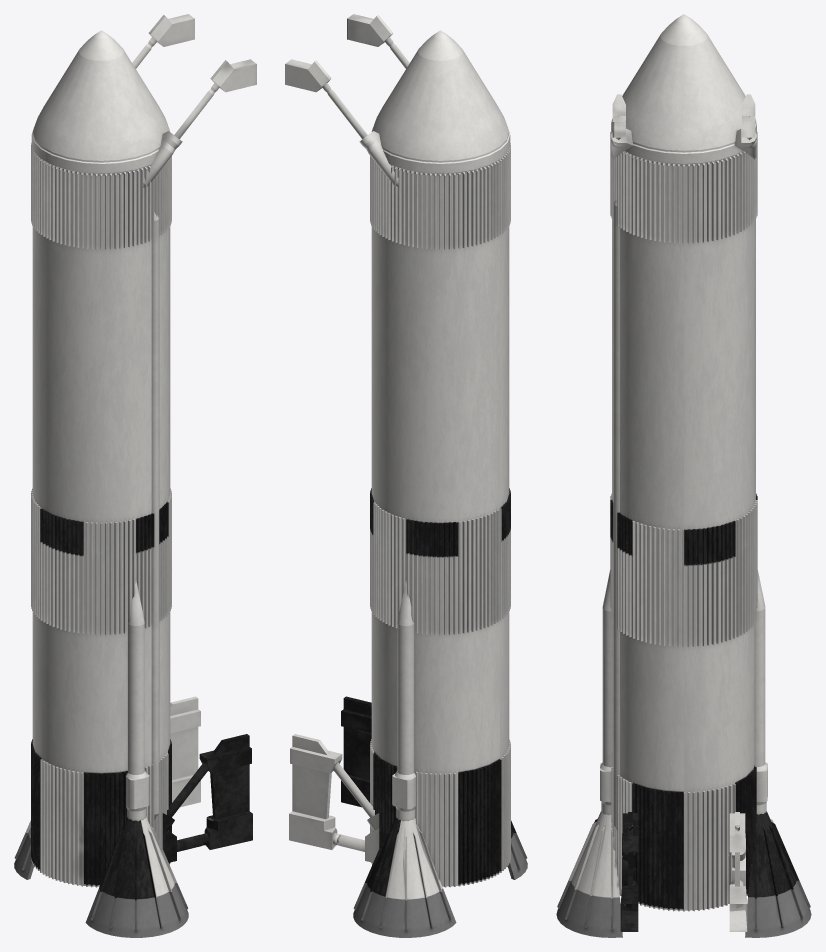
Rendered from ksprocket.fbx.
3 views of the same model, side by side, from view 1: azimuth 30°, elevation 25°; view 2: azimuth 150°, elevation 25°; view 3: azimuth 270°, elevation 25° (orthographic). The views are drawn at different scales.
Visible parts, largest first — view 1: tank.008, bits.006, anchor.001, fairing.003; view 2: tank.008, bits.006, anchor.001, fairing.003; view 3: tank.008, bits.006, fairing.003, anchor.001.
Part boxes in pixels (x1,y1,x2,y2): tank.008: [31, 143, 171, 887]; bits.006: [31, 30, 219, 862]; anchor.001: [148, 14, 256, 849]; fairing.003: [14, 816, 188, 937]; tank.008: [370, 143, 510, 887]; bits.006: [322, 30, 510, 862]; anchor.001: [285, 14, 393, 849]; fairing.003: [353, 816, 527, 937]; tank.008: [610, 132, 757, 911]; bits.006: [600, 14, 767, 908]; fairing.003: [556, 811, 811, 937]; anchor.001: [612, 94, 755, 931].
Bounding box in the file's own units: 1011 × 4558 × 1170.
